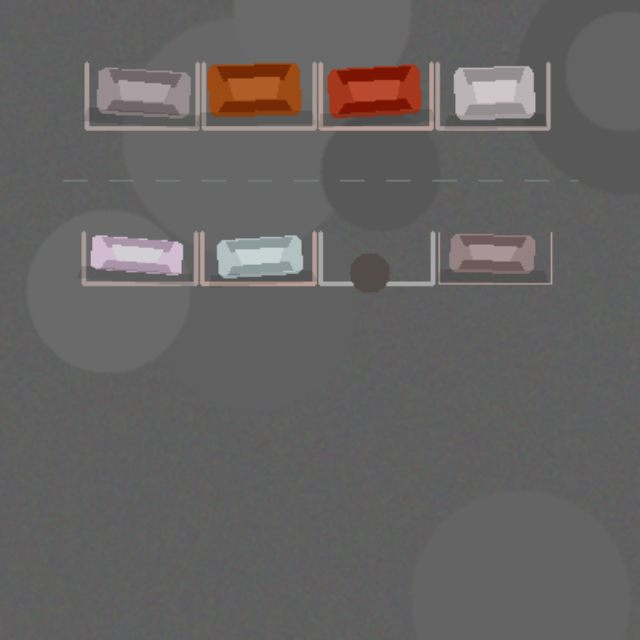space-empty: (320, 232, 432, 283)
space-occupied: (86, 63, 197, 128), (203, 63, 314, 128), (320, 63, 431, 128), (437, 63, 548, 128), (438, 232, 551, 283), (83, 232, 195, 283), (202, 232, 314, 283)
